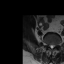CCS_normal: (51, 43, 53, 51)
LFS_severe_stenosis: (55, 42, 57, 47)
LLS_normal: (53, 43, 55, 49)
RFS_severe_stenosis: (47, 42, 49, 47)
RLS_normal: (49, 42, 51, 49)
